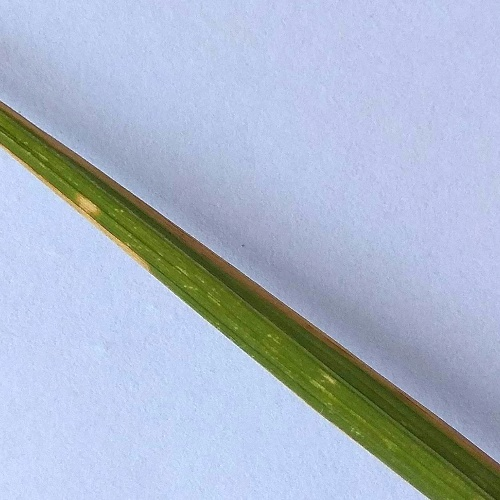Busuk Leher: (289, 304, 342, 346), (177, 225, 220, 266), (108, 230, 147, 270), (70, 184, 104, 223)
